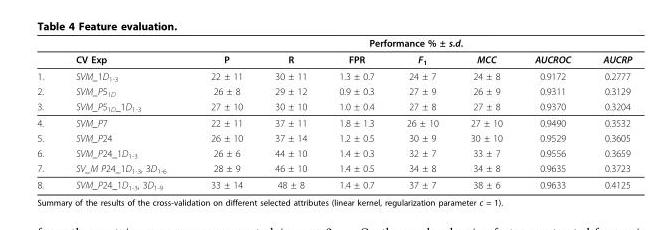table: (36, 36, 631, 190)
table column: (59, 36, 187, 190), (187, 36, 258, 190), (518, 36, 586, 190), (322, 36, 389, 190), (453, 36, 518, 190), (258, 36, 322, 190), (389, 36, 453, 190), (586, 36, 631, 190), (36, 36, 59, 190)
table column header: (36, 36, 631, 68)
table row: (36, 50, 631, 68), (36, 98, 631, 114), (36, 114, 631, 130), (36, 160, 631, 176), (36, 68, 631, 83), (36, 83, 631, 98), (36, 130, 631, 145), (36, 145, 631, 160), (36, 36, 631, 50), (36, 176, 631, 190)
table spanning cell: (187, 36, 631, 50), (59, 36, 187, 68)
